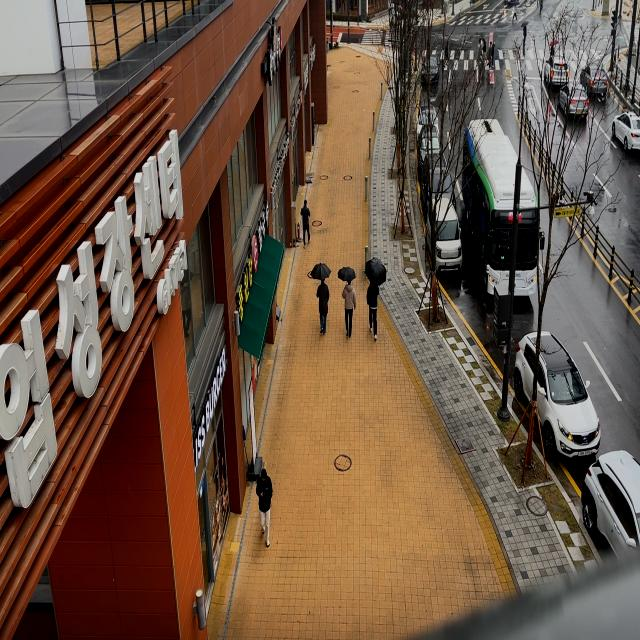Bus: (464, 107, 548, 297)
Car: (512, 331, 607, 464), (571, 431, 640, 579), (420, 194, 468, 280), (422, 160, 462, 213), (551, 79, 589, 122), (609, 108, 640, 158), (578, 55, 612, 98), (416, 120, 447, 166), (415, 99, 448, 137), (421, 45, 446, 93), (543, 55, 571, 87)
